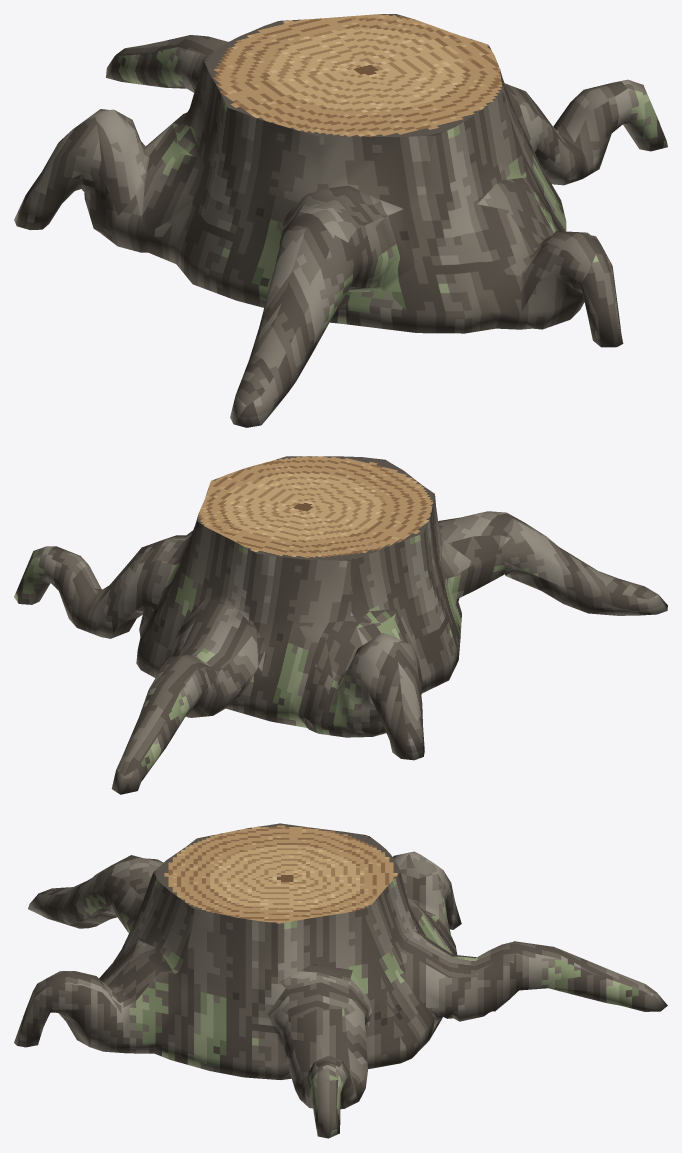
File: environment_elm2_stump_v56.fbx
3 renders of one model, top to bottom at view 1: azimuth 30°, elevation 25°; view 2: azimuth 150°, elevation 25°; view 3: azimuth 270°, elevation 25°, orthographic. The views are drawn at different scales.
Visible parts, largest first — view 1: environment_elm2_stump_v56; view 2: environment_elm2_stump_v56; view 3: environment_elm2_stump_v56.
Part boxes in pixels (x1=…): environment_elm2_stump_v56: x1=14, y1=14, x2=667, y2=427; environment_elm2_stump_v56: x1=14, y1=456, x2=667, y2=794; environment_elm2_stump_v56: x1=14, y1=823, x2=667, y2=1138.
Bounding box in the file's own units: 436 × 115 × 508.
Materials: 2 (2 with a texture image).
